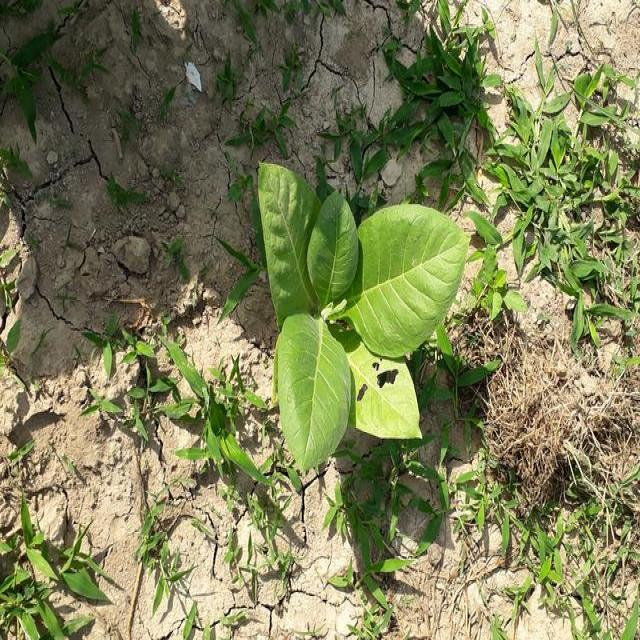crop: (253, 168, 468, 461)
